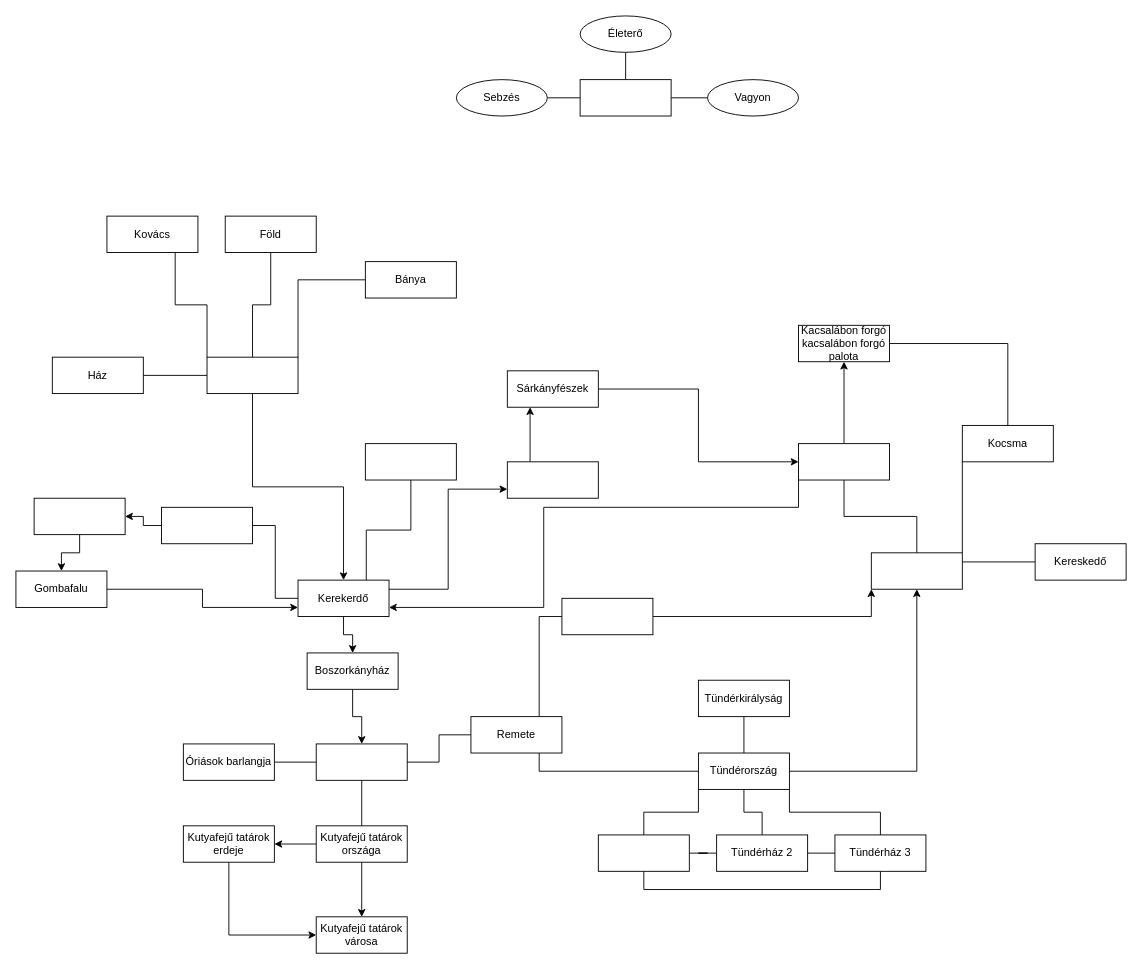
Some shapes in this 1142 by 969 pixel diagram are drawn without their labels. The box of each missing label's shape, as (x1, y1, x2, y2) in pixels:
Bokor (Törpe): (161, 506, 253, 544)
Főhős (Palkó): (579, 79, 671, 116)
Hegység: (315, 743, 407, 780)
Hókuszpók háza: (33, 497, 125, 535)
Kacsalábon forgó palota: (798, 443, 890, 480)
Markotabödöge: (206, 356, 298, 394)
Pokol: (561, 597, 653, 635)
Tisztás: (364, 443, 456, 480)
Tündérház 1: (597, 834, 689, 871)
Város: (870, 552, 962, 589)
Égig érő paszuly: (506, 461, 598, 498)
